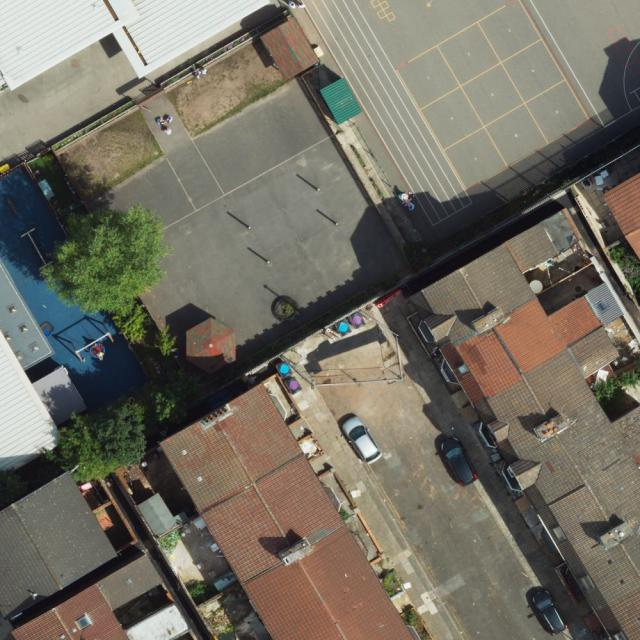roof: (164, 379, 417, 640), (0, 470, 190, 640), (0, 328, 62, 477)
skylight: (75, 613, 96, 632), (454, 362, 470, 379), (595, 298, 611, 314)
